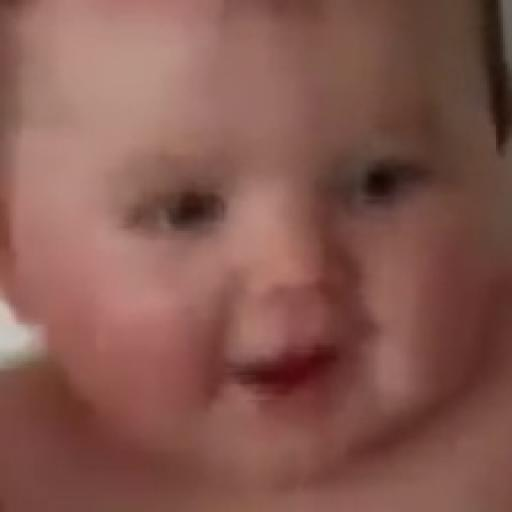Autism: (18, 4, 512, 501)
